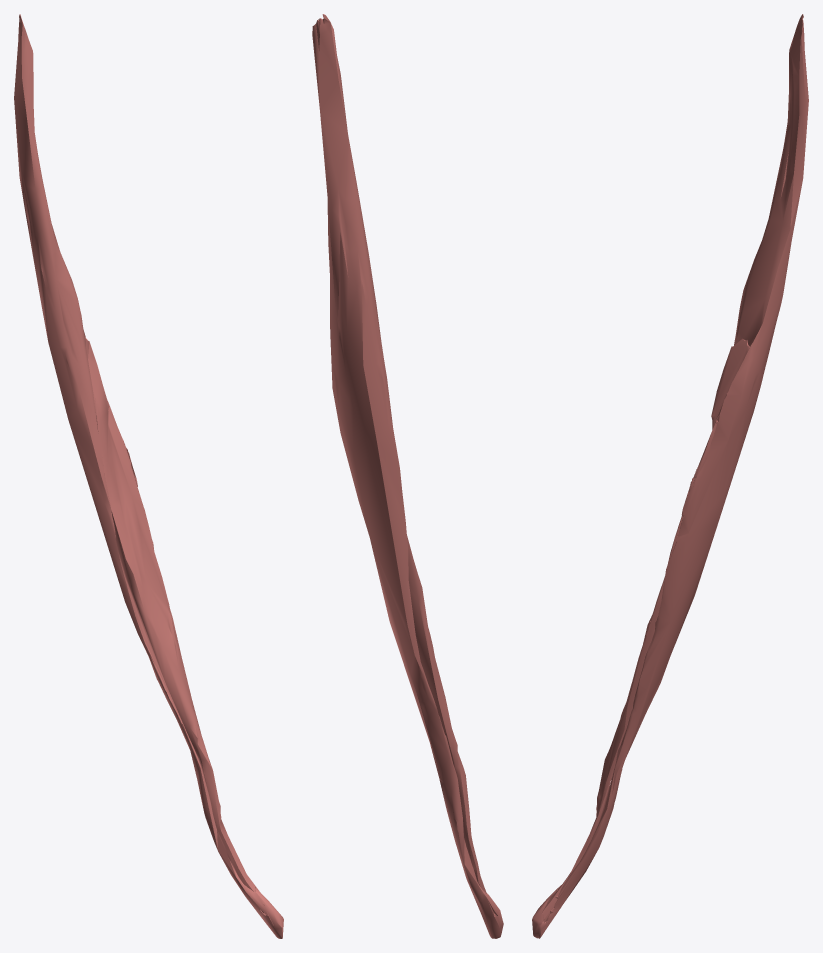
File: fma38507_cx62.glb
3 views of the same model, side by side, from view 1: azimuth 90°, elevation 25°; view 2: azimuth 150°, elevation 25°; view 3: azimuth 270°, elevation 25° (orthographic). The views are drawn at different scales.
Visible parts, largest first — view 1: FMA38507_CX62; view 2: FMA38507_CX62; view 3: FMA38507_CX62.
Boxes of the visible parts, x1=… form: FMA38507_CX62: x1=14, y1=14, x2=283, y2=938; FMA38507_CX62: x1=312, y1=14, x2=503, y2=938; FMA38507_CX62: x1=532, y1=14, x2=808, y2=938.
Bounding box in the file's own units: 0.018 × 0.2877 × 0.0771.
